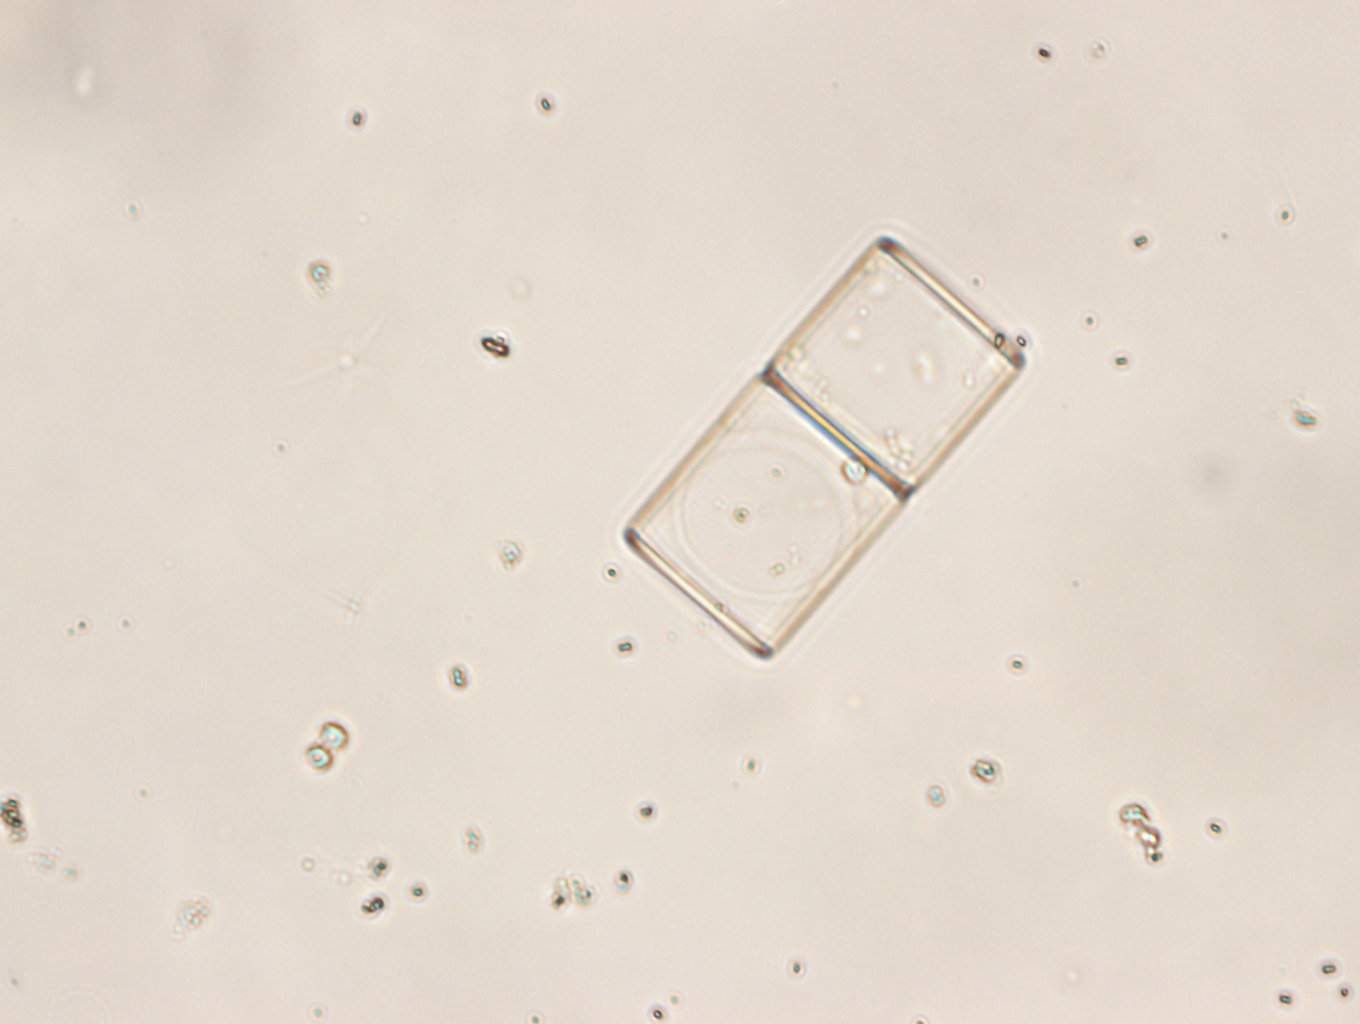guinardia flaccida: (620, 229, 1029, 662)
